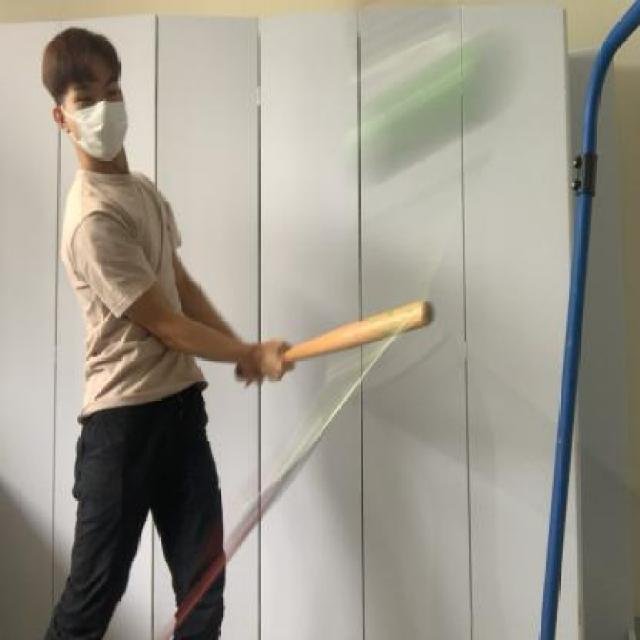baseball: (333, 33, 515, 216)
